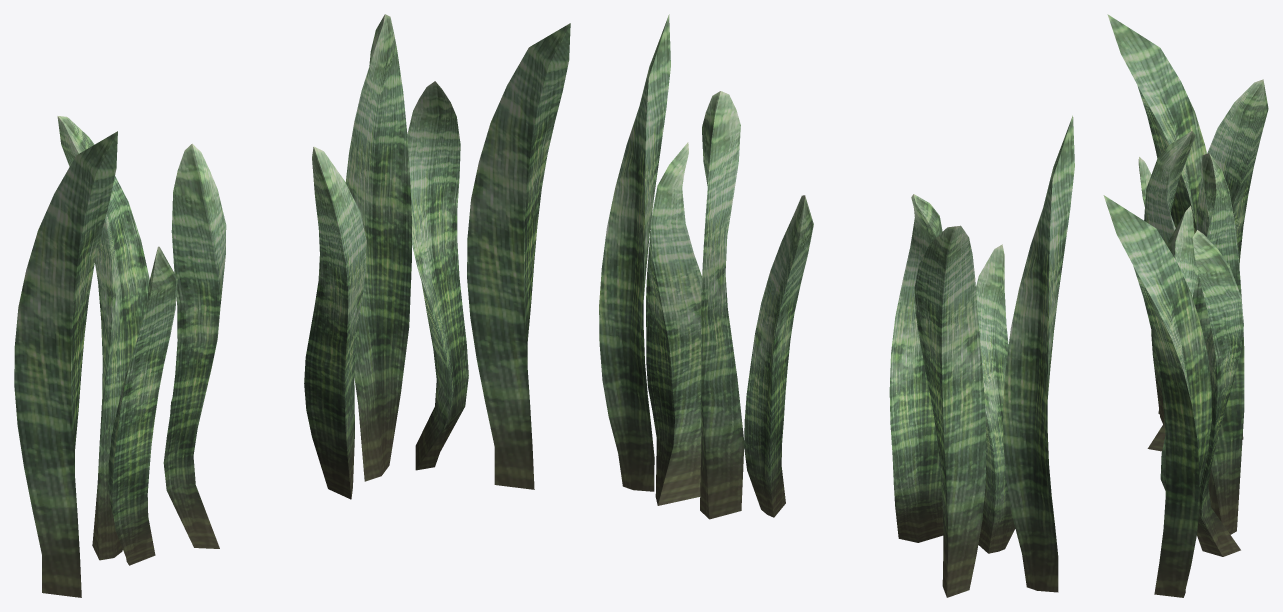
File: D_Plant_011_b.fbx
The picture shows the model from 3 angles, left to right: view 1: azimuth 30°, elevation 25°; view 2: azimuth 150°, elevation 25°; view 3: azimuth 270°, elevation 25°; orthographic projection. The views are drawn at different scales.
Visible parts, largest first — view 1: D_Plant_011_b; view 2: D_Plant_011_b; view 3: D_Plant_011_b.
Boxes of the visible parts, <box> form: D_Plant_011_b: <box>14,14,570,597</box>; D_Plant_011_b: <box>599,14,1074,597</box>; D_Plant_011_b: <box>1103,14,1268,597</box>.
Size of the model in its own units: 0.7622 by 0.7016 by 0.2605.
1 material, 1 textured.
